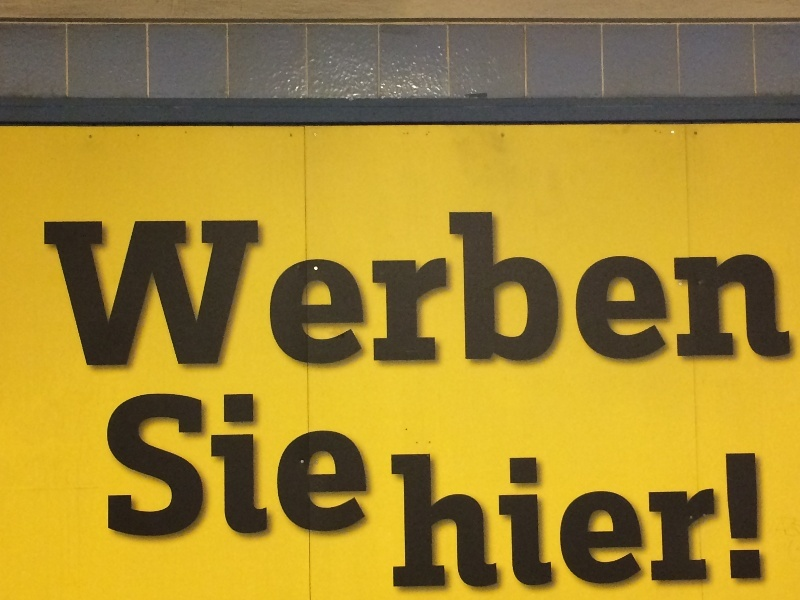text: (113, 390, 128, 599), (129, 390, 144, 599), (145, 390, 160, 599), (161, 390, 176, 599), (177, 390, 192, 599), (193, 390, 208, 599), (209, 390, 224, 599), (225, 390, 240, 599), (241, 390, 256, 599), (257, 390, 272, 599), (273, 390, 288, 599), (289, 390, 304, 599), (305, 390, 320, 599), (321, 390, 336, 599), (337, 390, 352, 599), (353, 390, 368, 599), (369, 390, 384, 599), (385, 390, 400, 599), (401, 390, 416, 599), (417, 390, 432, 599), (433, 390, 448, 599), (449, 390, 464, 599), (465, 390, 480, 599), (481, 390, 496, 599), (497, 390, 512, 599), (513, 390, 528, 599), (529, 390, 544, 599), (545, 390, 560, 599), (561, 390, 576, 599), (577, 390, 592, 599), (593, 390, 608, 599), (609, 390, 624, 599), (625, 390, 640, 599), (641, 390, 656, 599), (657, 390, 672, 599), (673, 390, 688, 599), (689, 390, 704, 599), (705, 390, 720, 599), (721, 390, 736, 599), (737, 390, 752, 599), (753, 390, 765, 599), (49, 208, 64, 370), (65, 208, 80, 370), (81, 208, 96, 370), (97, 208, 112, 370), (113, 208, 128, 370), (129, 208, 144, 370), (145, 208, 160, 370), (161, 208, 176, 370), (177, 208, 192, 370), (193, 208, 208, 370), (209, 208, 224, 370), (225, 208, 240, 370), (241, 208, 256, 370), (257, 208, 272, 370), (273, 208, 288, 370), (289, 208, 304, 370), (305, 208, 320, 370), (321, 208, 336, 370), (337, 208, 352, 370), (353, 208, 368, 370), (369, 208, 384, 370), (385, 208, 400, 370), (401, 208, 416, 370), (417, 208, 432, 370), (433, 208, 448, 370), (449, 208, 464, 370), (465, 208, 480, 370), (481, 208, 496, 370), (497, 208, 512, 370), (513, 208, 528, 370), (529, 208, 544, 370), (545, 208, 560, 370), (561, 208, 576, 370), (577, 208, 592, 370), (593, 208, 608, 370), (609, 208, 624, 370), (625, 208, 640, 370), (641, 208, 656, 370), (657, 208, 672, 370), (673, 208, 688, 370), (689, 208, 704, 370), (705, 208, 720, 370), (721, 208, 736, 370), (737, 208, 752, 370), (753, 208, 768, 370), (769, 208, 784, 370), (39, 208, 48, 370), (785, 208, 793, 370), (107, 390, 112, 599)
